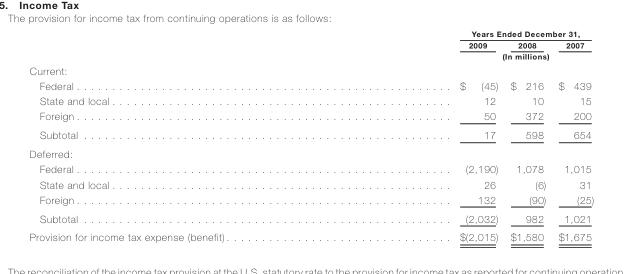table: (28, 28, 593, 242)
table column: (28, 28, 343, 242), (343, 28, 503, 242), (503, 28, 551, 242), (551, 28, 593, 242)
table column header: (28, 28, 593, 62)
table projected row header: (28, 144, 593, 161), (28, 62, 593, 77)
table row: (28, 125, 593, 144), (28, 208, 593, 227), (28, 108, 593, 125), (28, 144, 593, 161), (28, 191, 593, 208), (28, 77, 593, 93), (28, 62, 593, 77), (28, 93, 593, 108), (28, 161, 593, 176), (28, 176, 593, 191), (28, 227, 593, 242), (28, 38, 593, 50), (28, 50, 593, 62), (28, 28, 593, 38)
table spanning cell: (343, 50, 593, 62), (343, 28, 593, 38)
